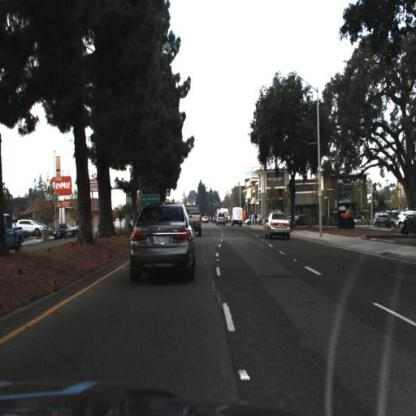car: (128, 202, 197, 285), (263, 208, 290, 242), (373, 206, 406, 233), (17, 219, 48, 242), (184, 203, 203, 238), (230, 203, 247, 230), (52, 222, 74, 242), (53, 220, 71, 242), (215, 208, 232, 230), (339, 211, 353, 228), (72, 218, 81, 239)
truck: (230, 206, 243, 227)
